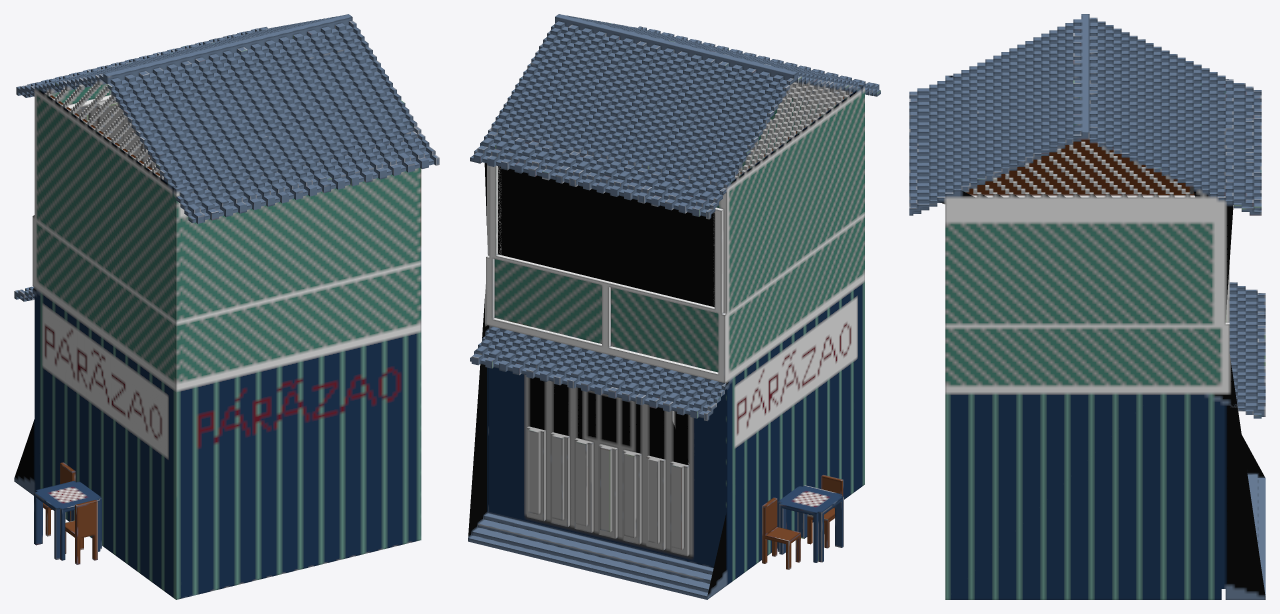
The model's file is Parazao.fbx.
The picture shows the model from 3 angles, left to right: view 1: azimuth 30°, elevation 25°; view 2: azimuth 150°, elevation 25°; view 3: azimuth 270°, elevation 25°; orthographic projection. The views are drawn at different scales.
Visible parts, largest first — view 1: Parazão; view 2: Parazão; view 3: Parazão.
Boxes of the visible parts, x1=… form: Parazão: x1=14, y1=14, x2=439, y2=599; Parazão: x1=468, y1=14, x2=880, y2=599; Parazão: x1=909, y1=14, x2=1265, y2=599.
Size of the model in its own units: 840 by 1290 by 890.
